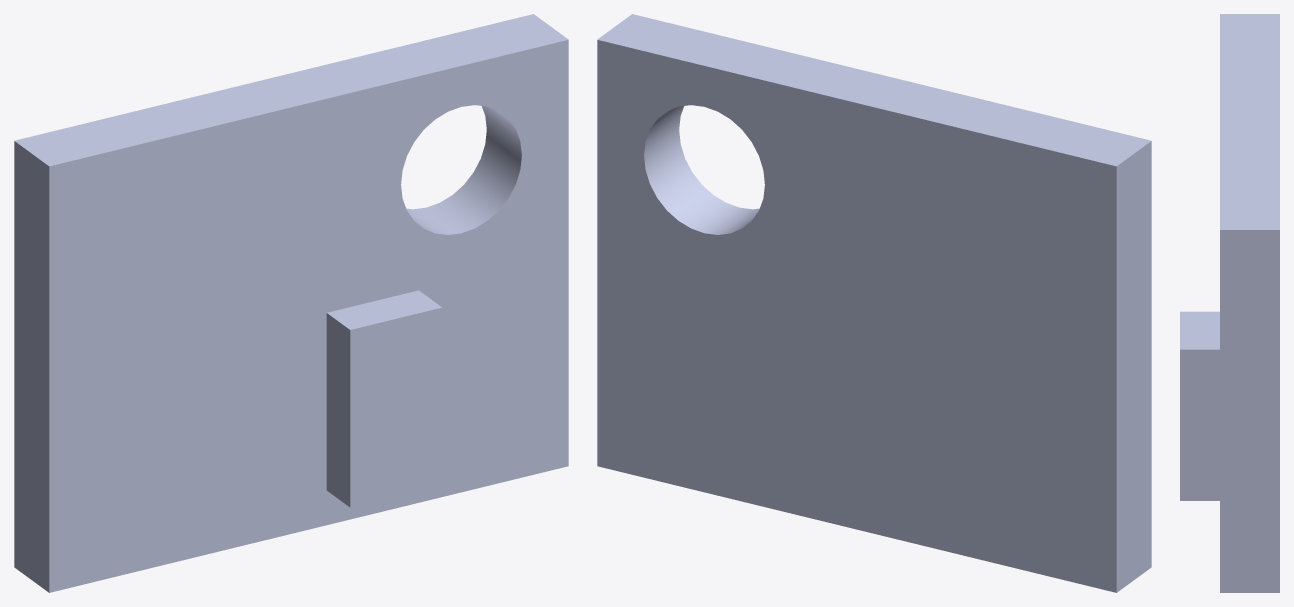
Rendered from GYUL53L0X.glb.
3 renders of one model, left to right at view 1: azimuth 30°, elevation 25°; view 2: azimuth 150°, elevation 25°; view 3: azimuth 270°, elevation 25°, orthographic. The views are drawn at different scales.
Visible parts, largest first — view 1: GYUL53L0X; view 2: GYUL53L0X; view 3: GYUL53L0X.
Part boxes in pixels (x1,y1,x2,y2): GYUL53L0X: (14, 14, 568, 592); GYUL53L0X: (597, 14, 1151, 592); GYUL53L0X: (1180, 14, 1279, 592).
Bounding box in the file's own units: 0.0134 × 0.0105 × 0.00262.
